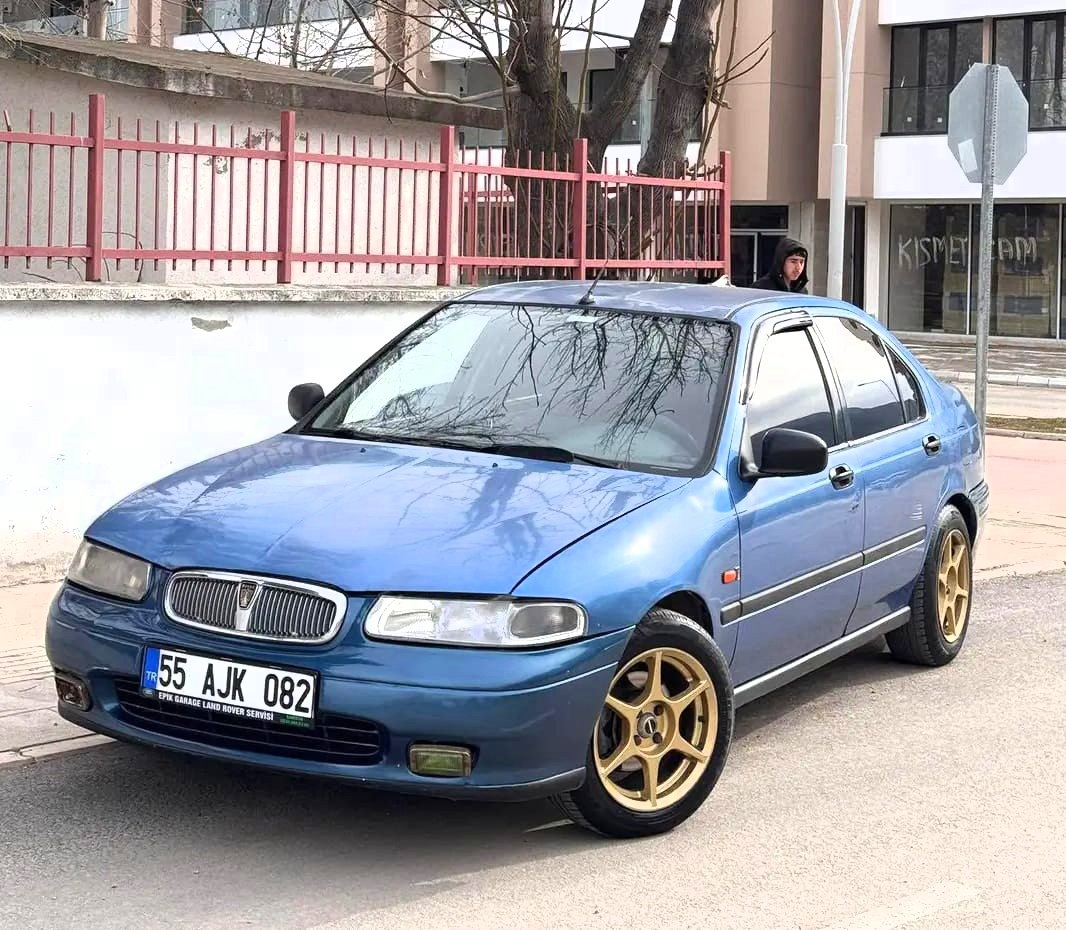plaka: (159, 640, 316, 730)
